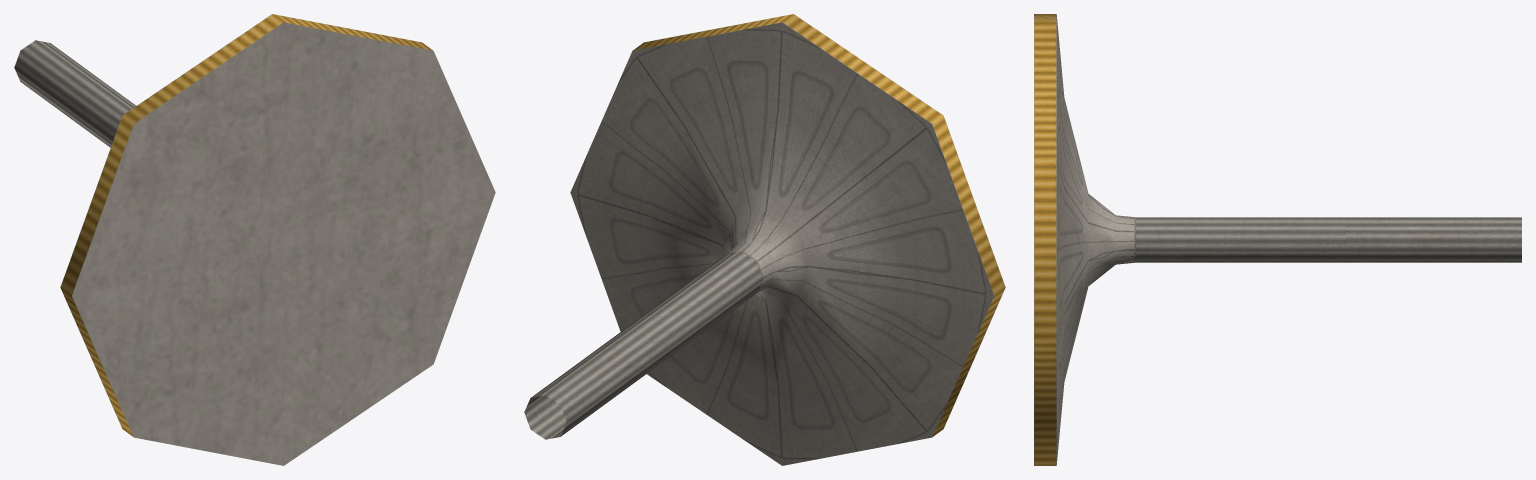
File: nt_2020_vista_ufo_01_LOD1.obj
The picture shows the model from 3 angles, left to right: view 1: azimuth 30°, elevation 25°; view 2: azimuth 150°, elevation 25°; view 3: azimuth 270°, elevation 25°; orthographic projection.
Parts seen in each view (by area): view 1: mtl_nt_2020_vista_ufo; view 2: mtl_nt_2020_vista_ufo; view 3: mtl_nt_2020_vista_ufo.
Part boxes in pixels (x1,y1,x2,y2): mtl_nt_2020_vista_ufo: [14, 14, 495, 465]; mtl_nt_2020_vista_ufo: [524, 14, 1005, 465]; mtl_nt_2020_vista_ufo: [1034, 14, 1521, 465].
Size of the model in its own units: 1055 by 1055 by 1071.
